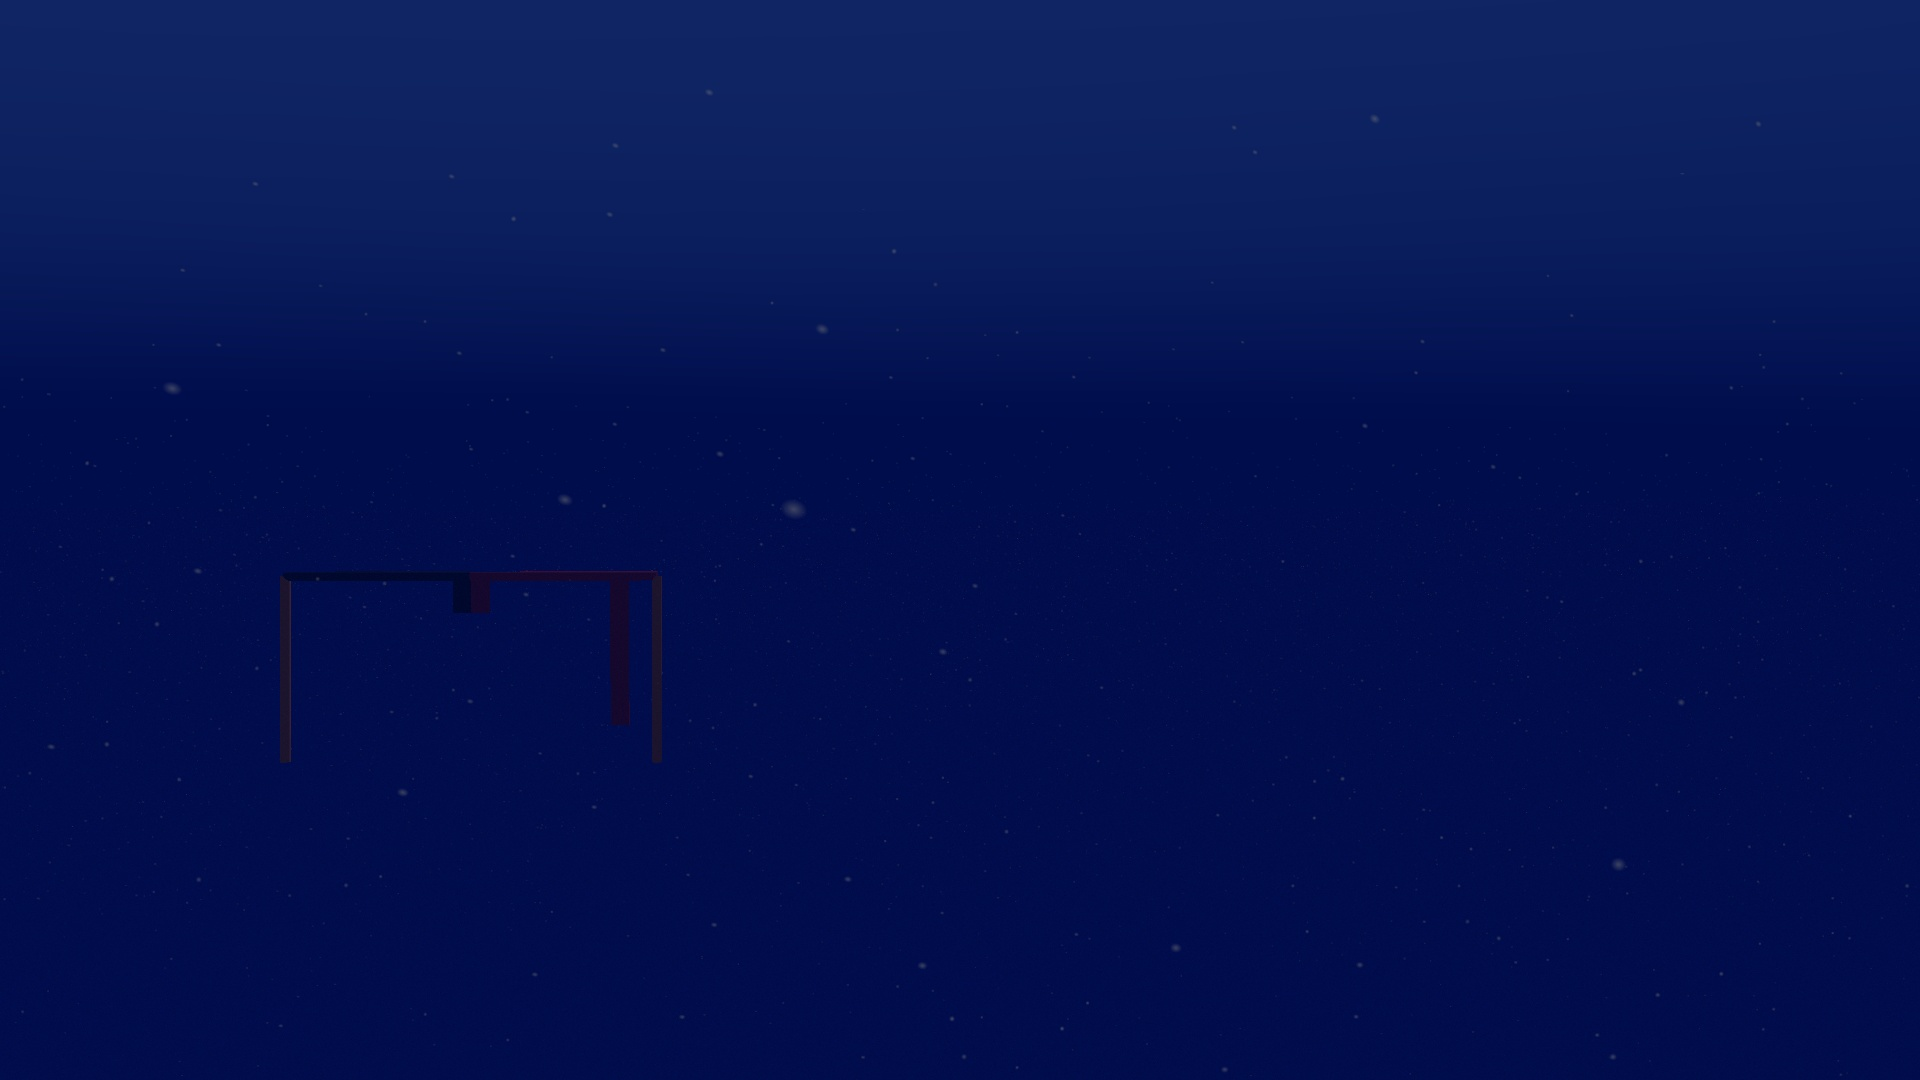Gate: (266, 560, 673, 779)
